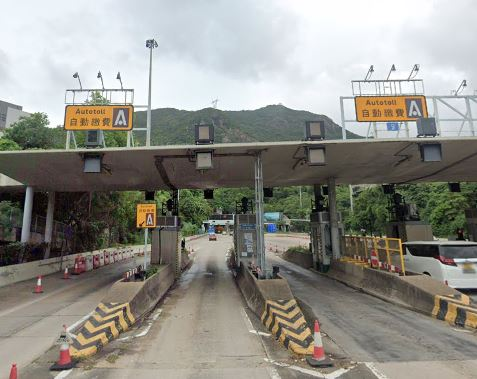Autotoll: (352, 93, 430, 120), (60, 105, 131, 128), (137, 201, 156, 228)
